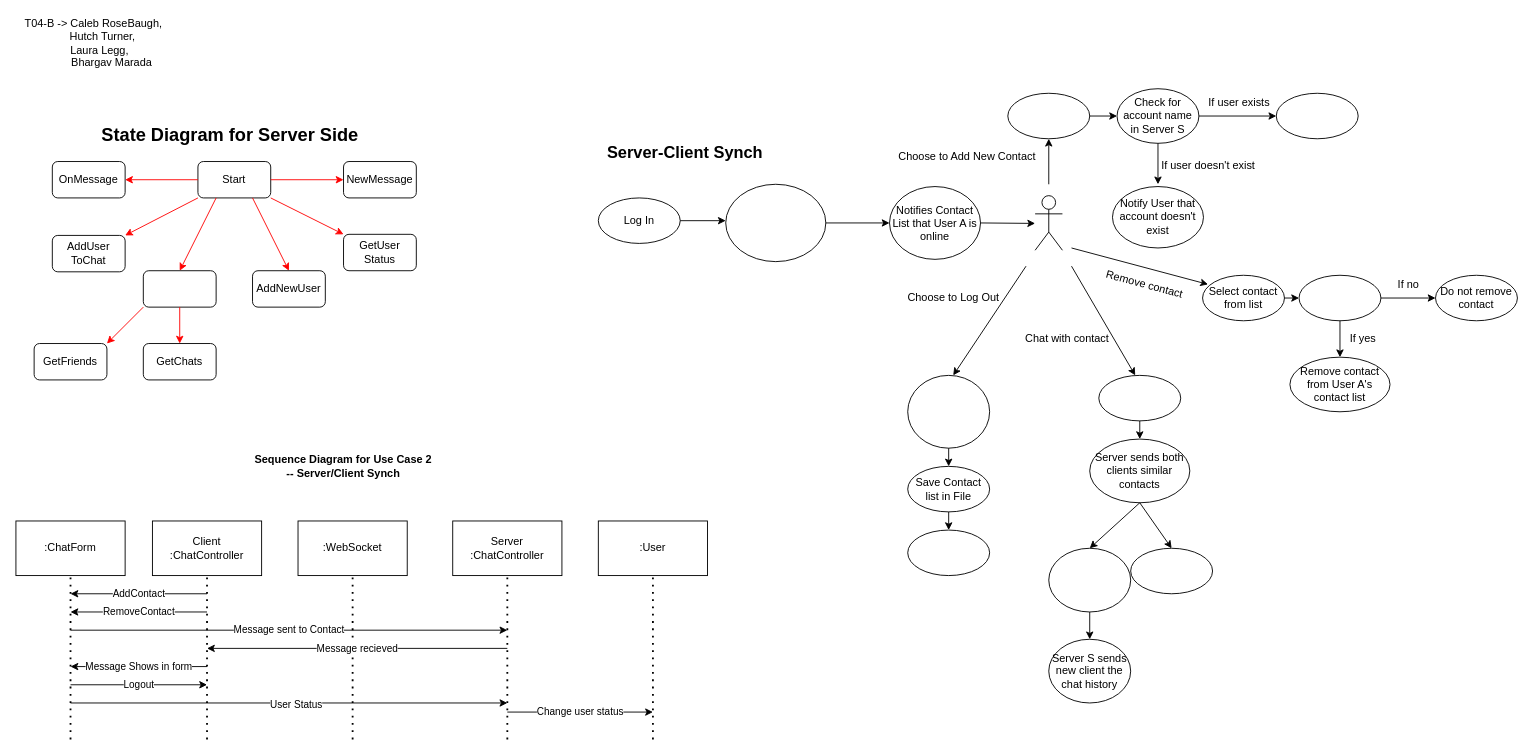
The diagram is 1533 pixels wide and 756 high, and some of its shapes have lost their labels. Each missing label, with the centre of its shape:
"Asks for confirmation" belongs at (x=1339, y=297).
"Client opens chat window" belongs at (x=1139, y=397).
"Enter Contact Name" belongs at (x=1048, y=115).
"Log Out" belongs at (x=948, y=552).
"Notify Contact List that User A is offline" belongs at (x=948, y=411).
"Notify User and Update Client" belongs at (x=1316, y=115).
"OnOpen" belongs at (x=179, y=288).
"Server S Gives Client Contact List" belongs at (x=775, y=222).
"User A" belongs at (x=1048, y=222).
"User can add another user to the chat" belongs at (x=1089, y=579).
"User can send messages" belongs at (x=1171, y=570).
